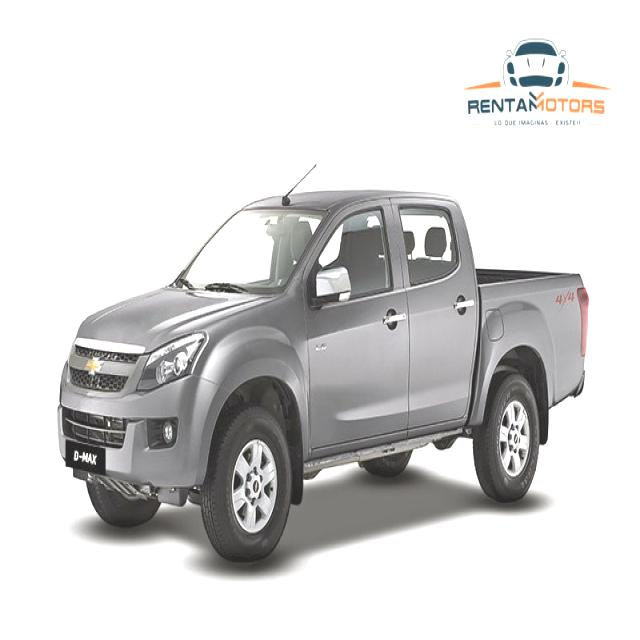CMT: (46, 187, 592, 558)
